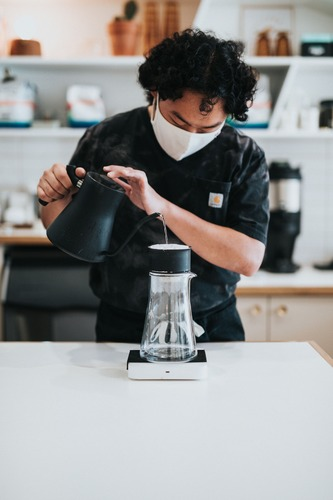with_mask: (160, 99, 224, 159)
